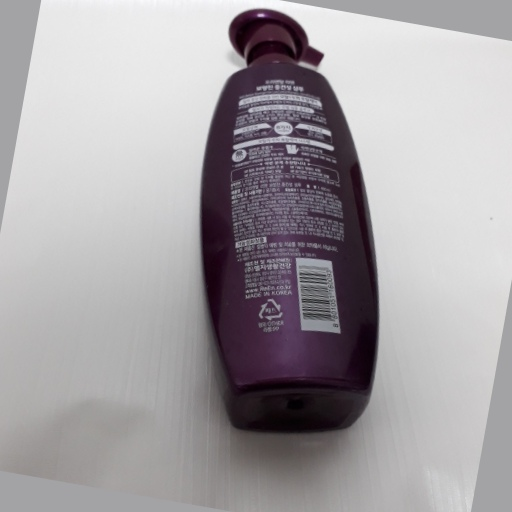Plastic_3: (198, 7, 379, 428)
